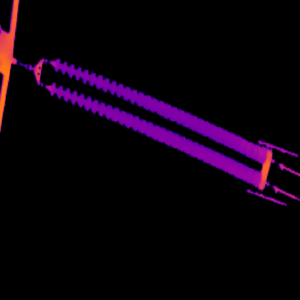insulator: (49, 55, 268, 166), (45, 80, 263, 189)
